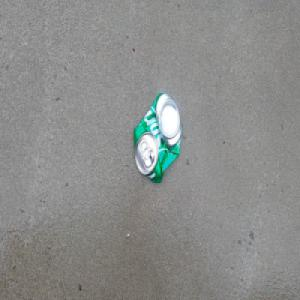SodaCan: (131, 89, 182, 185)
